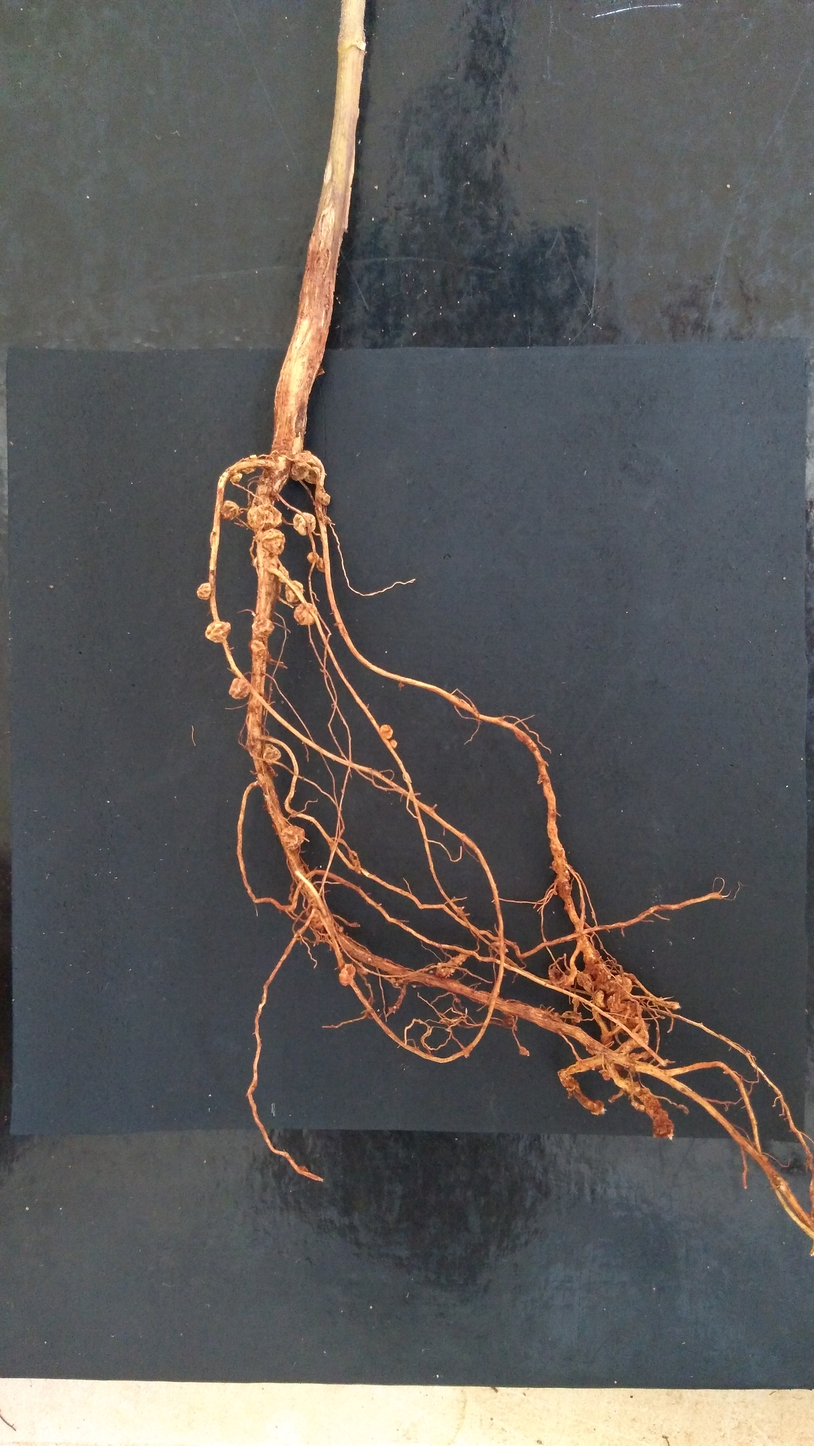nodule: (290, 450, 322, 485), (605, 991, 643, 1017), (246, 503, 282, 530), (280, 825, 306, 851), (614, 1015, 647, 1035), (261, 528, 285, 555), (204, 621, 231, 643), (292, 512, 316, 535), (293, 602, 317, 625), (251, 614, 275, 637), (228, 677, 251, 700), (261, 742, 282, 766), (612, 973, 632, 998), (220, 500, 241, 521), (285, 580, 304, 603), (575, 971, 595, 992), (338, 963, 356, 986), (593, 962, 611, 981), (240, 454, 257, 474), (250, 638, 267, 657), (623, 1077, 641, 1092), (196, 583, 211, 600), (548, 968, 561, 986), (278, 565, 290, 584), (379, 724, 393, 739), (266, 557, 278, 574), (593, 990, 605, 1007), (318, 491, 330, 506), (229, 471, 243, 482), (306, 551, 320, 562), (316, 557, 326, 572), (570, 1011, 582, 1023), (599, 1068, 610, 1081), (601, 1032, 612, 1045), (518, 1045, 530, 1056), (389, 739, 398, 749), (439, 967, 448, 977), (630, 1052, 641, 1060), (359, 967, 369, 975), (337, 925, 345, 932), (642, 1087, 650, 1093), (449, 967, 455, 973), (639, 1104, 645, 1110), (551, 860, 557, 866), (554, 1011, 559, 1017), (428, 970, 434, 974), (564, 885, 569, 889), (437, 962, 442, 965)
